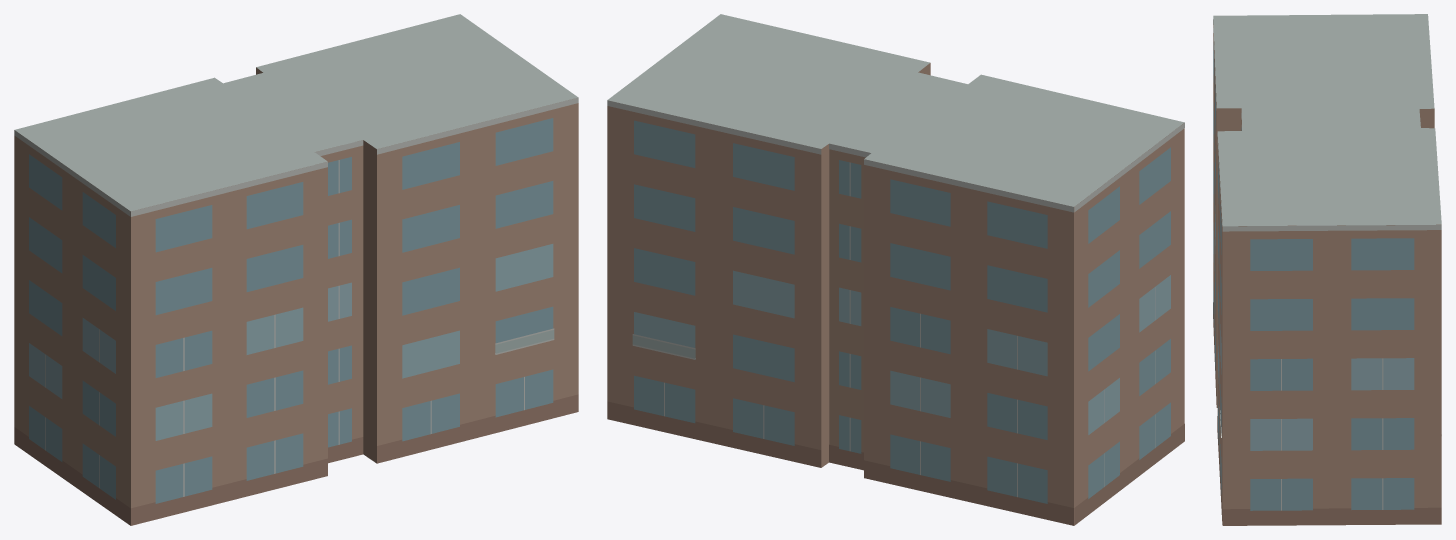
The model's file is survey-upis-32528212.glb.
The picture shows the model from 3 angles, left to right: view 1: azimuth 30°, elevation 25°; view 2: azimuth 150°, elevation 25°; view 3: azimuth 270°, elevation 25°; orthographic projection. The views are drawn at different scales.
Visible parts, largest first — view 1: survey-upis-32528212.tmp; view 2: survey-upis-32528212.tmp; view 3: survey-upis-32528212.tmp.
Part boxes in pixels (x1,y1,x2,y2): survey-upis-32528212.tmp: (14,14,578,525); survey-upis-32528212.tmp: (607,14,1184,525); survey-upis-32528212.tmp: (1213,14,1441,525).
Bounding box in the file's own units: 20.97 × 13.8 × 9.56.
